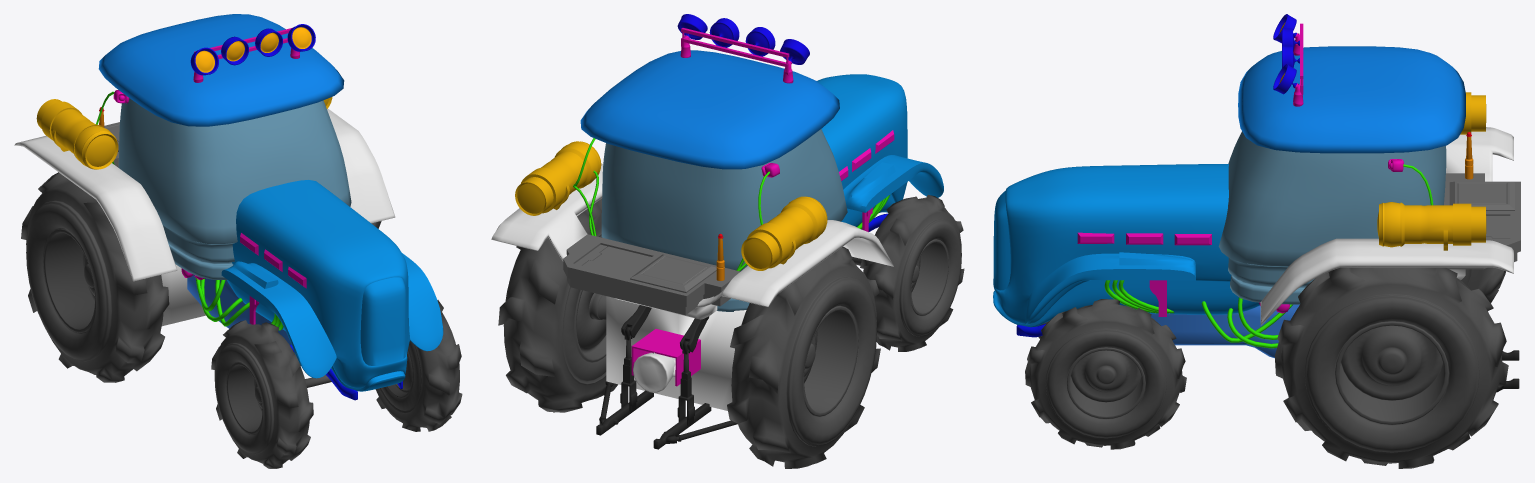
File: TractorFantasy.fbx
3 renders of one model, left to right at view 1: azimuth 30°, elevation 25°; view 2: azimuth 150°, elevation 25°; view 3: azimuth 270°, elevation 25°, orthographic. The views are drawn at different scales.
Parts seen in each view (by area): view 1: Moteur, Cabin, Wheel.RB, Toit, GuardeBoue, Wheel.RF, Wheel.LF, Battery, Chassis, Lamp, Lamp.001, Cable.004 (+1 smaller); view 2: Wheel.RB, Toit, Cabin, GuardeBoue, Wheel.LB, Wheel.RF, Moteur, Battery, Pad, Cube.007, Cube.006, Attelage (+9 smaller); view 3: Wheel.LB, Moteur, Toit, Cabin, Wheel.LF, GuardeBoue, Battery, Chassis, Pad, MotorDecor, Cable.004, Wheel.RB (+2 smaller).
Boxes of the visible parts, x1=… form: Moteur: x1=221, y1=180, x2=443, y2=391; Cabin: x1=118, y1=98, x2=351, y2=279; Wheel.RB: x1=21, y1=172, x2=169, y2=382; Toit: x1=98, y1=14, x2=344, y2=126; GuardeBoue: x1=14, y1=109, x2=395, y2=326; Wheel.RF: x1=211, y1=320, x2=331, y2=468; Wheel.LF: x1=375, y1=300, x2=462, y2=431; Battery: x1=36, y1=97, x2=332, y2=169; Chassis: x1=187, y1=275, x2=295, y2=353; Lamp: x1=190, y1=24, x2=315, y2=75; Lamp.001: x1=221, y1=28, x2=282, y2=65; Cable.004: x1=195, y1=277, x2=249, y2=326; Wheel.RB: x1=727, y1=246, x2=880, y2=468; Toit: x1=580, y1=50, x2=839, y2=169; Cabin: x1=601, y1=129, x2=847, y2=311; GuardeBoue: x1=491, y1=163, x2=893, y2=410; Wheel.LB: x1=498, y1=198, x2=617, y2=412; Wheel.RF: x1=852, y1=195, x2=964, y2=351; Moteur: x1=817, y1=74, x2=943, y2=226; Battery: x1=515, y1=141, x2=827, y2=270; Pad: x1=563, y1=234, x2=740, y2=315; Cube.007: x1=596, y1=380, x2=711, y2=449; Cube.006: x1=631, y1=329, x2=700, y2=386; Attelage: x1=633, y1=352, x2=675, y2=392; Wheel.LB: x1=1274, y1=267, x2=1508, y2=468; Moteur: x1=993, y1=164, x2=1259, y2=327; Toit: x1=1238, y1=46, x2=1465, y2=153; Cabin: x1=1218, y1=131, x2=1446, y2=304; Wheel.LF: x1=1025, y1=299, x2=1186, y2=449; GuardeBoue: x1=1260, y1=127, x2=1513, y2=325; Battery: x1=1377, y1=92, x2=1486, y2=250; Chassis: x1=1151, y1=304, x2=1299, y2=358; Pad: x1=1444, y1=173, x2=1520, y2=269; MotorDecor: x1=1077, y1=232, x2=1211, y2=245; Cable.004: x1=1201, y1=297, x2=1292, y2=348; Wheel.RB: x1=1461, y1=267, x2=1505, y2=303.
Size of the model in its own units: 737 by 887 by 1140.
